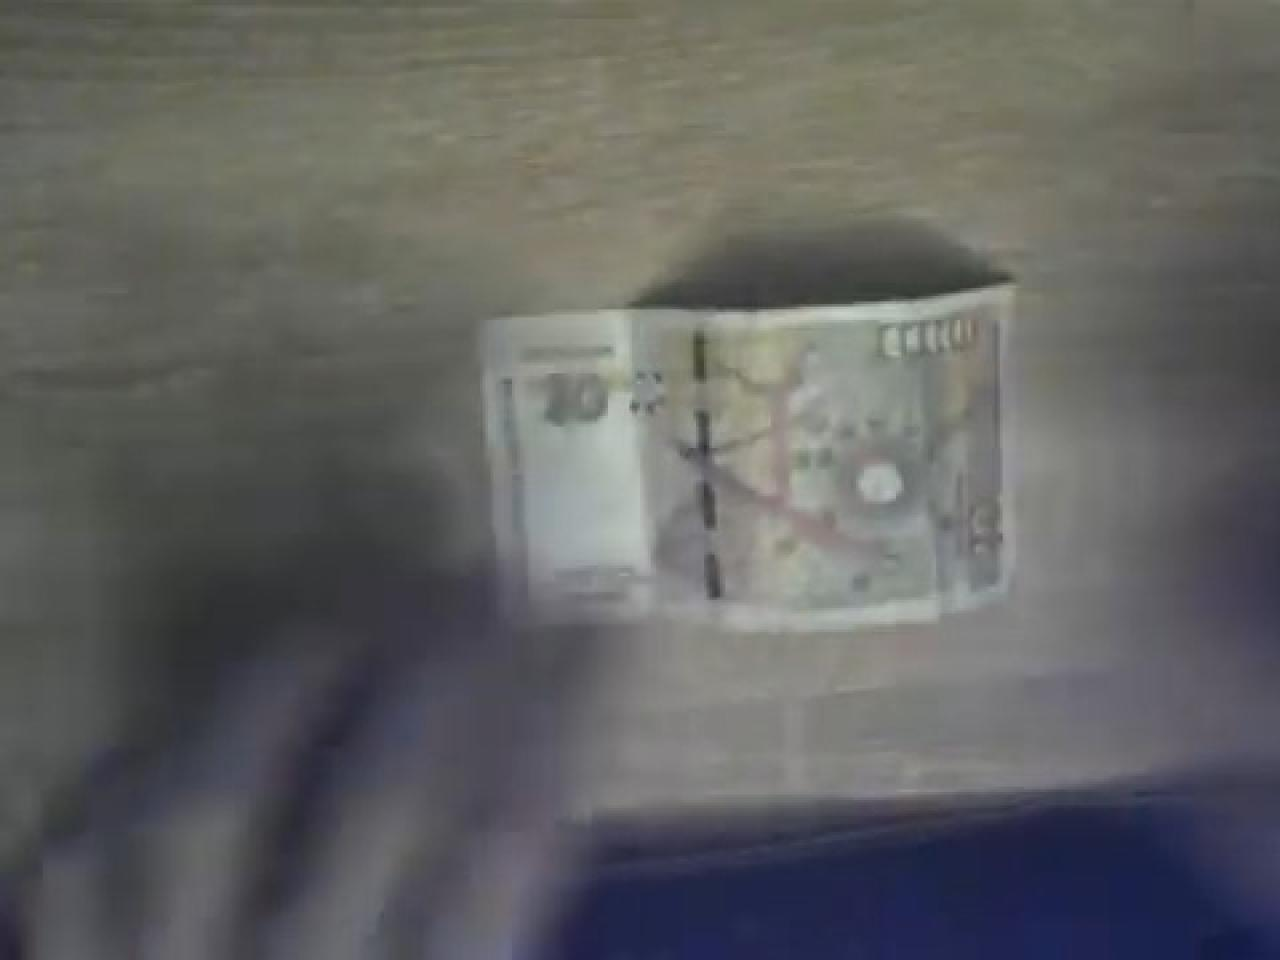10leva: (486, 280, 1021, 632)
